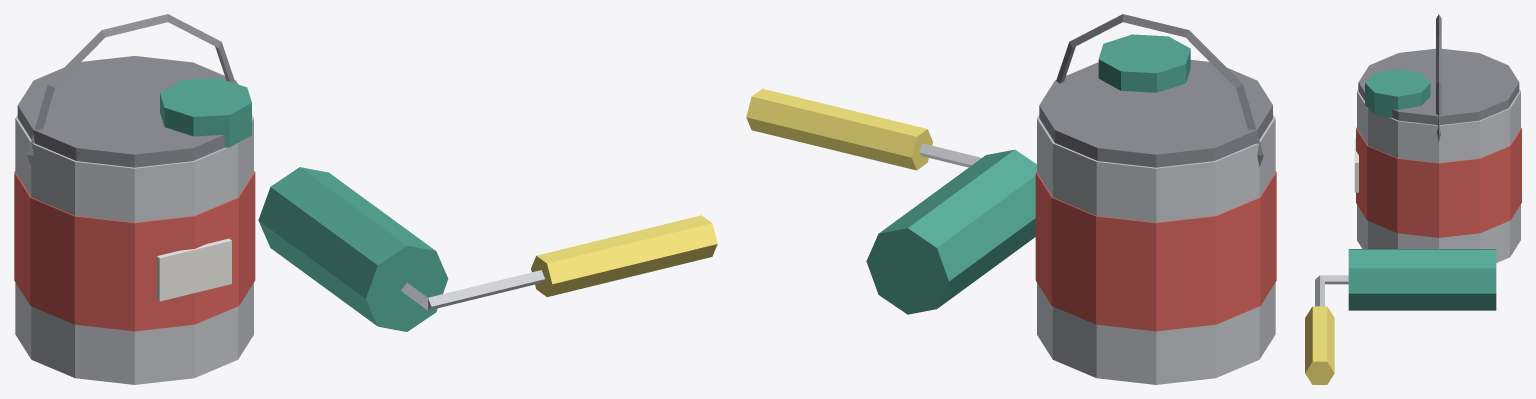
The model's file is prop_paint_kit_01.glb.
The picture shows the model from 3 angles, left to right: view 1: azimuth 30°, elevation 25°; view 2: azimuth 150°, elevation 25°; view 3: azimuth 270°, elevation 25°; orthographic projection. The views are drawn at different scales.
Visible parts, largest first — view 1: prop_paint_kit_01_body; view 2: prop_paint_kit_01_body; view 3: prop_paint_kit_01_body.
Boxes of the visible parts, x1,y1,x2,y2 form: prop_paint_kit_01_body: (14, 14, 717, 384); prop_paint_kit_01_body: (746, 14, 1276, 384); prop_paint_kit_01_body: (1305, 14, 1521, 384).
Size of the model in its own units: 0.574 by 0.2889 by 0.264.
